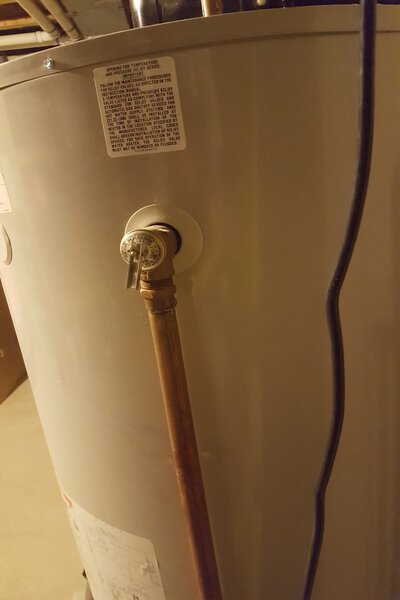valve: (117, 222, 183, 312)
